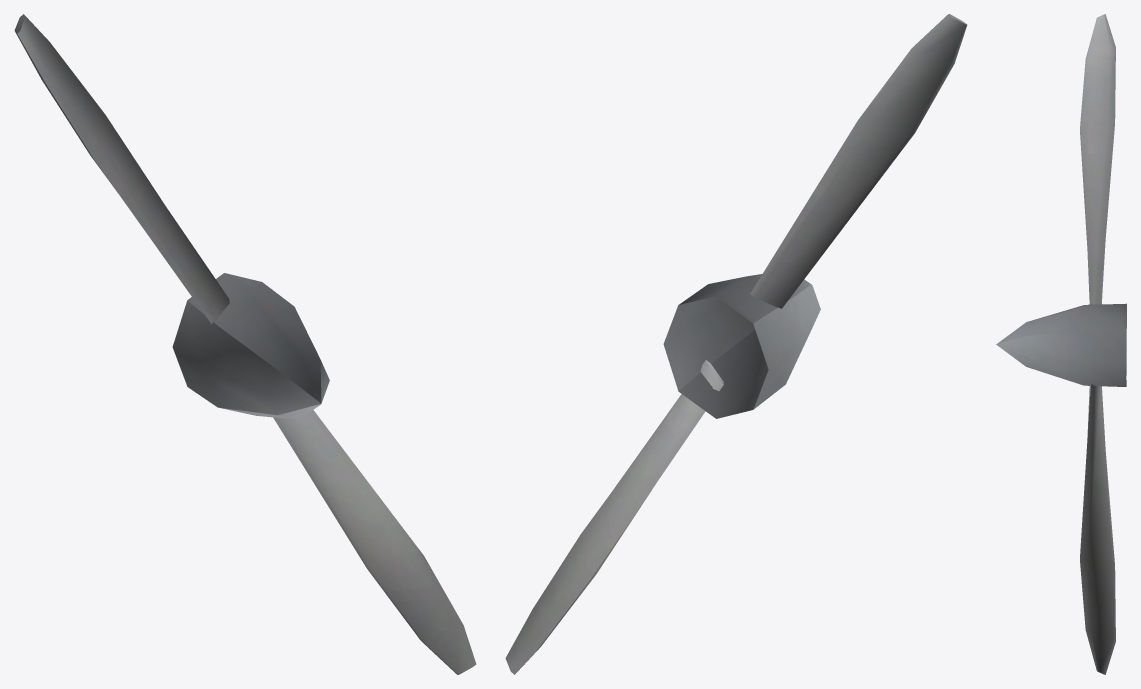
File: Blades.glb
3 views of the same model, side by side, from view 1: azimuth 30°, elevation 25°; view 2: azimuth 150°, elevation 25°; view 3: azimuth 270°, elevation 25° (orthographic). The views are drawn at different scales.
Visible parts, largest first — view 1: awionetka.001; view 2: awionetka.001; view 3: awionetka.001.
Part boxes in pixels (left/top/right/bottom): awionetka.001: left=14, top=14, right=476, bottom=674; awionetka.001: left=505, top=14, right=967, bottom=674; awionetka.001: left=996, top=14, right=1126, bottom=674.
Size of the model in its own units: 11.51 by 18.31 by 4.19.
Materials: 1 (1 with a texture image).
